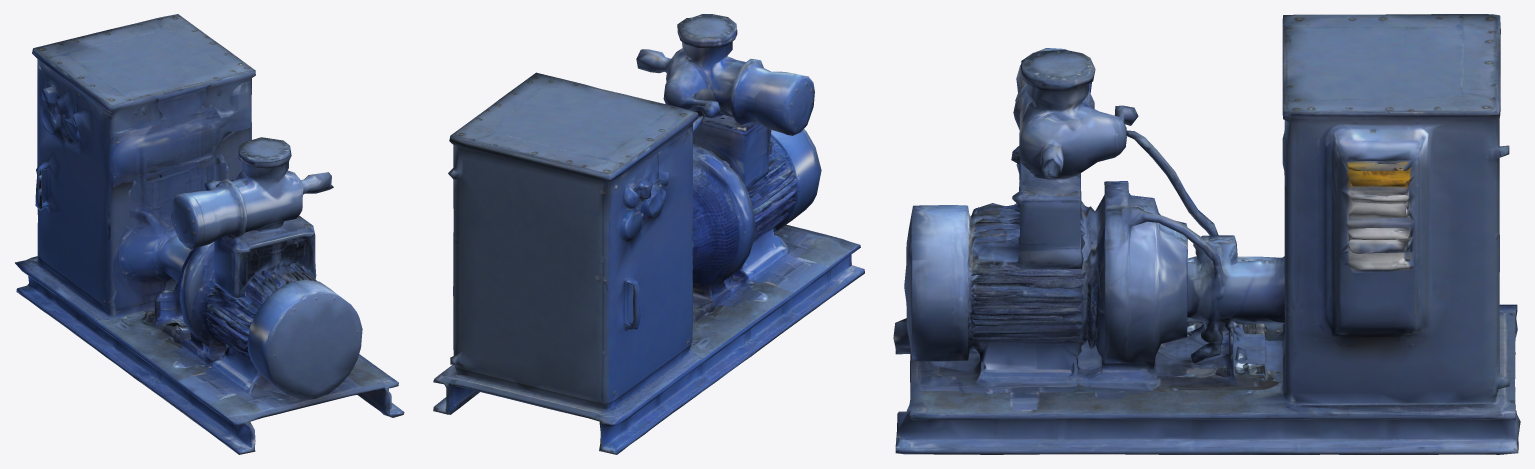
Rendered from Bomba.fbx.
3 renders of one model, left to right at view 1: azimuth 30°, elevation 25°; view 2: azimuth 150°, elevation 25°; view 3: azimuth 270°, elevation 25°, orthographic. The views are drawn at different scales.
Parts seen in each view (by area): view 1: Mesh1; view 2: Mesh1; view 3: Mesh1.
Boxes of the visible parts, box(x1,y1,x2,y2) form: Mesh1: box(15, 14, 404, 454); Mesh1: box(433, 14, 864, 454); Mesh1: box(893, 14, 1520, 454).
Size of the model in its own units: 91.22 by 121 by 203.
1 material, 1 textured.
